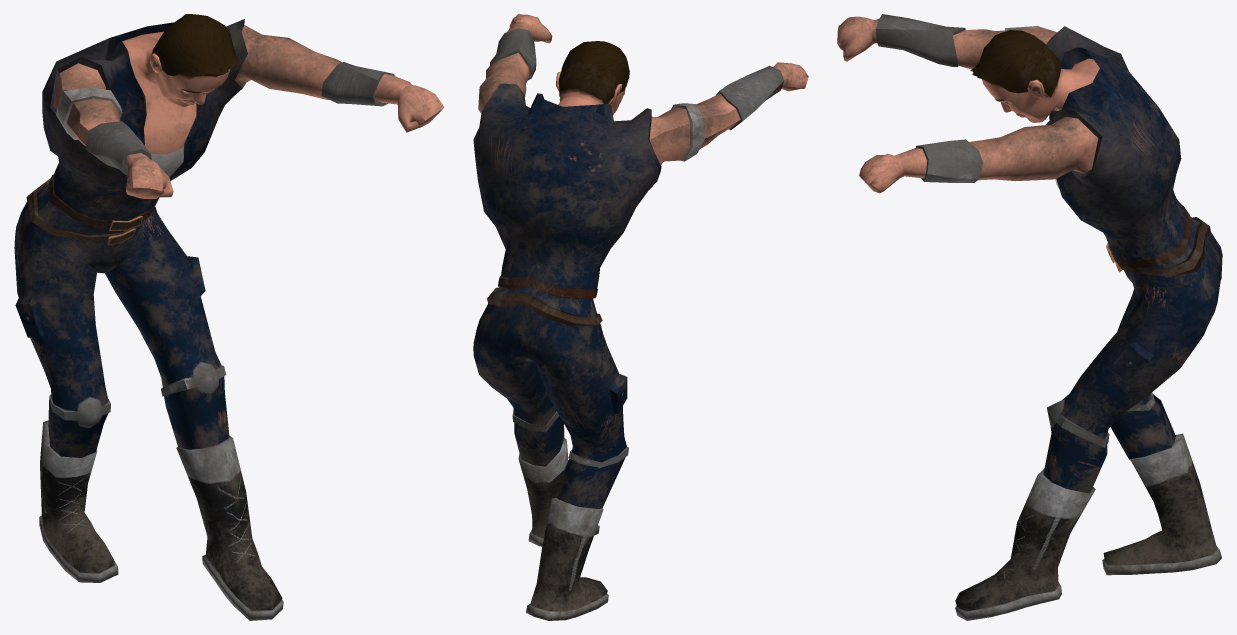
The model's file is Anim_ataque_d3_jugador.0044.obj.
The picture shows the model from 3 angles, left to right: view 1: azimuth 30°, elevation 25°; view 2: azimuth 150°, elevation 25°; view 3: azimuth 270°, elevation 25°; orthographic projection. The views are drawn at different scales.
Visible parts, largest first — view 1: polySurface1; view 2: polySurface1; view 3: polySurface1.
Part boxes in pixels (box(x1,y1,x2,y2)): polySurface1: box(14, 14, 444, 620); polySurface1: box(473, 14, 808, 620); polySurface1: box(837, 14, 1222, 620).
Bounding box in the file's own units: 4.97 × 8.54 × 5.3.
